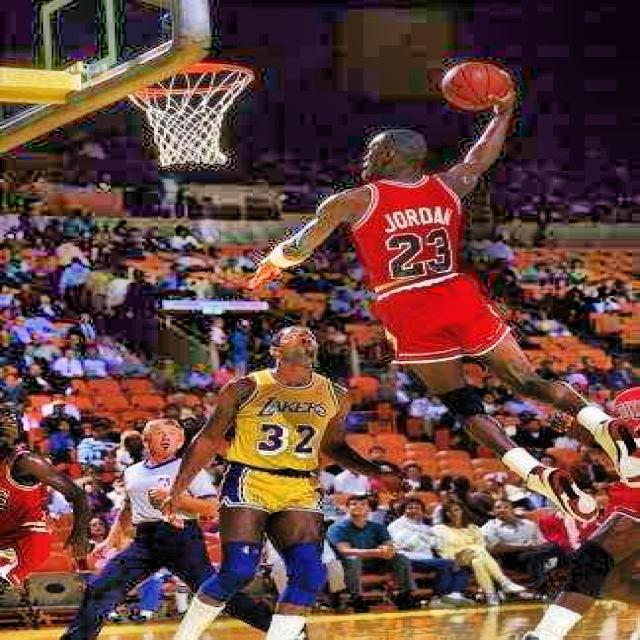rim: (126, 63, 257, 166)
